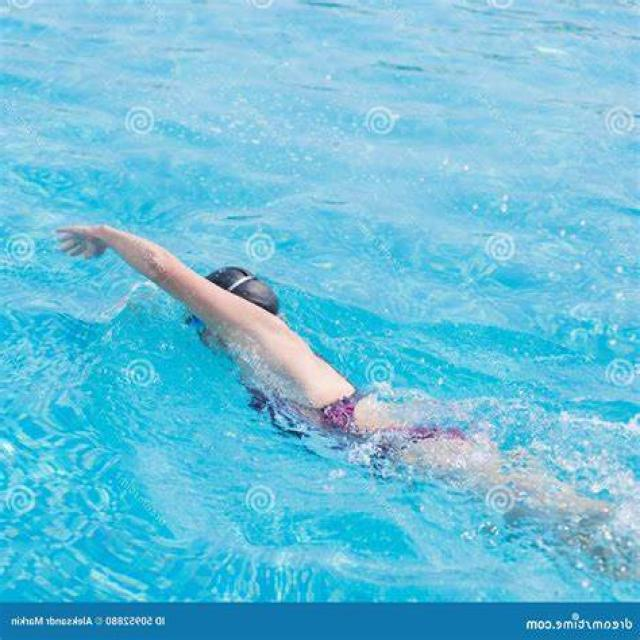Swimming: (56, 223, 639, 551)
